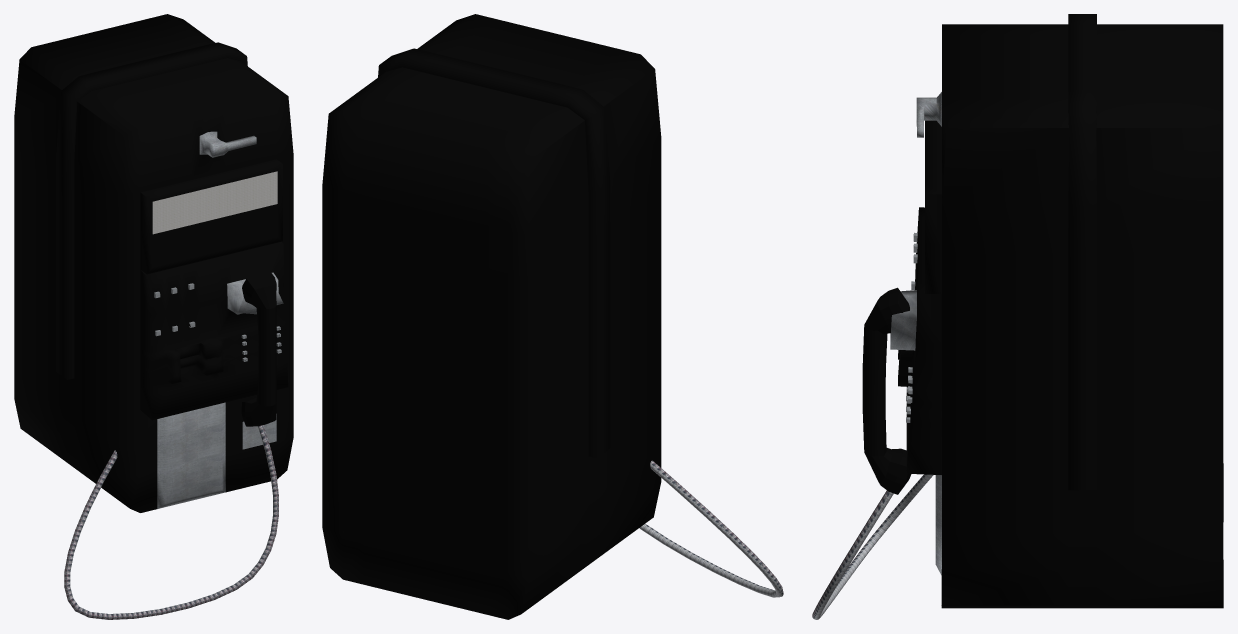
Rendered from payphone.glb.
The picture shows the model from 3 angles, left to right: view 1: azimuth 30°, elevation 25°; view 2: azimuth 150°, elevation 25°; view 3: azimuth 270°, elevation 25°; orthographic projection. The views are drawn at different scales.
Parts seen in each view (by area): view 1: Payphone, Phone, Wire; view 2: Payphone, Wire; view 3: Payphone, Phone, Wire.
Part boxes in pixels (x1=…): Payphone: x1=14, y1=14, x2=293, y2=512; Phone: x1=241, y1=272, x2=276, y2=426; Wire: x1=64, y1=425, x2=278, y2=619; Payphone: x1=322, y1=14, x2=661, y2=619; Wire: x1=639, y1=460, x2=783, y2=597; Payphone: x1=890, y1=14, x2=1223, y2=608; Phone: x1=862, y1=287, x2=911, y2=494; Wire: x1=812, y1=474, x2=933, y2=619.
Bounding box in the file's own units: 3764 × 6504 × 4082.
3 materials, 3 textured.
